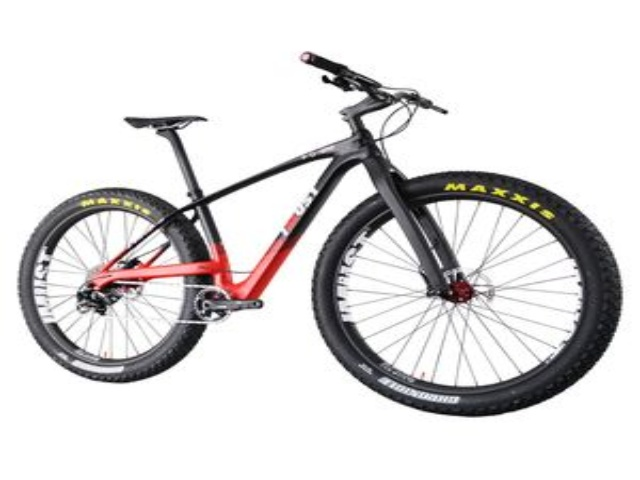bike: (15, 46, 626, 437)
